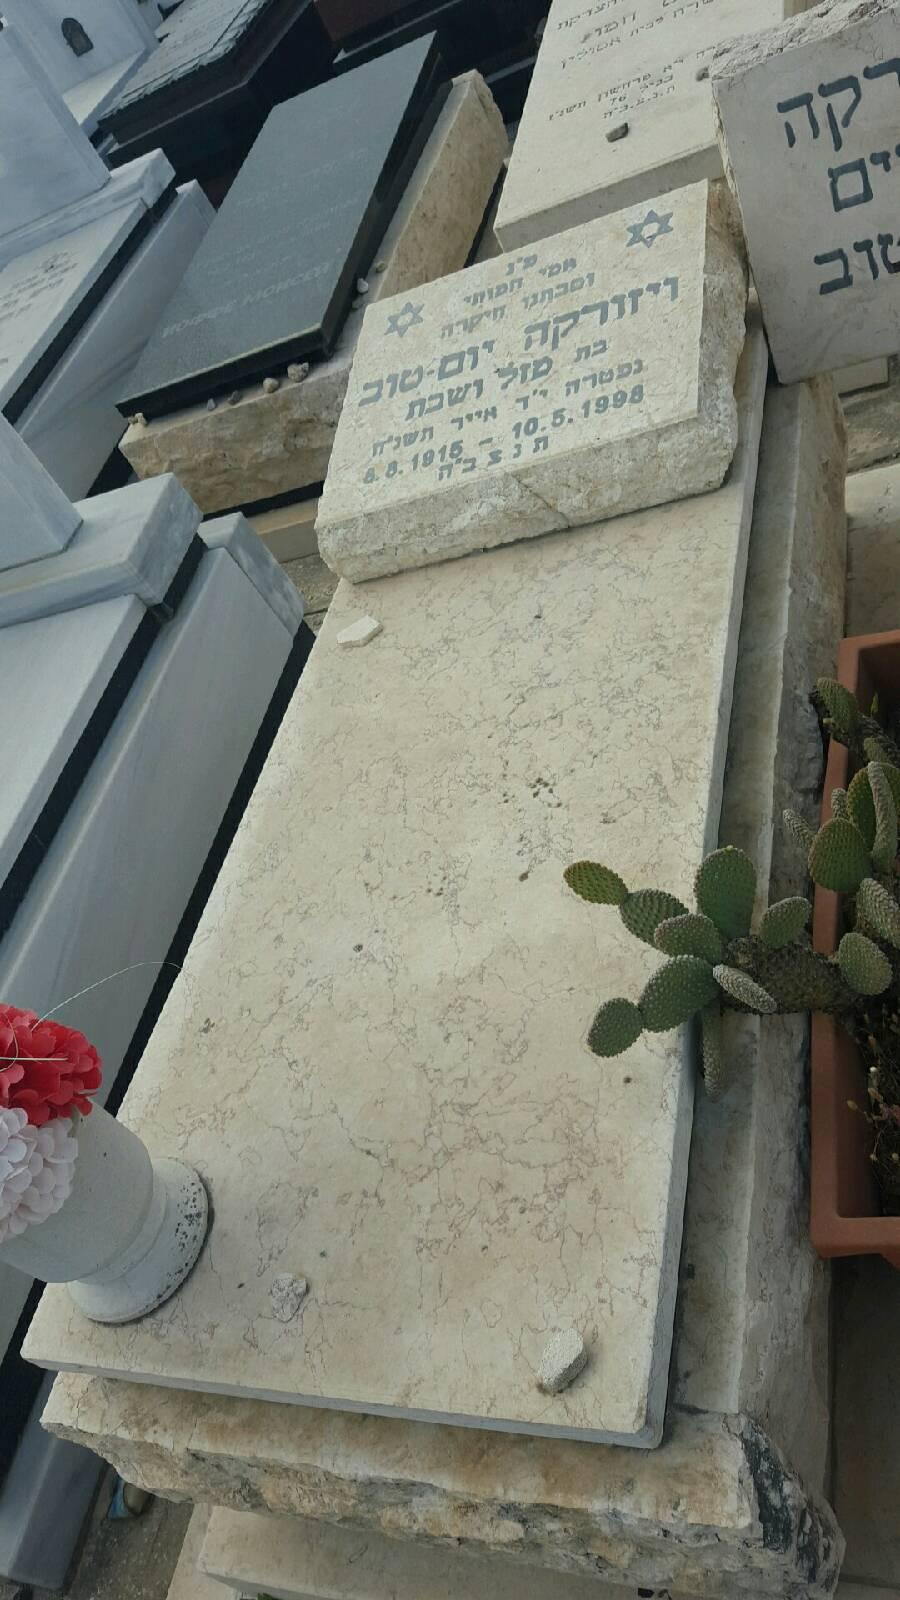vault: (24, 153, 823, 1549)
